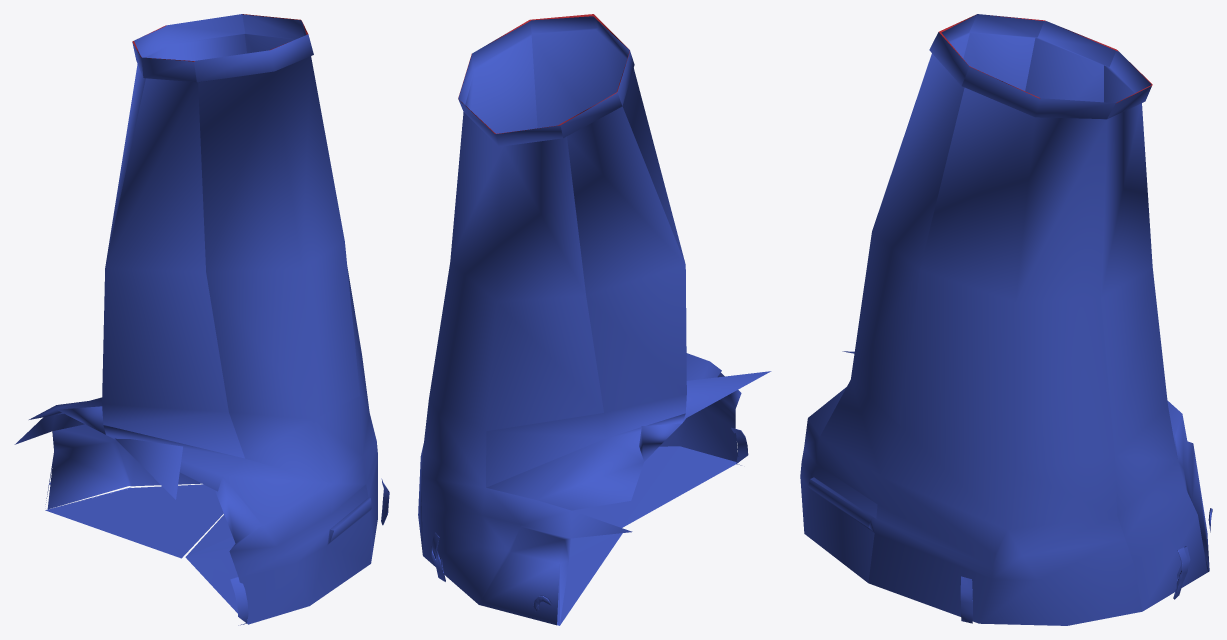
Rendered from right_up_leg.glb.
The picture shows the model from 3 angles, left to right: view 1: azimuth 30°, elevation 25°; view 2: azimuth 150°, elevation 25°; view 3: azimuth 270°, elevation 25°; orthographic projection. The views are drawn at different scales.
Parts seen in each view (by area): view 1: shorts-blue_RIGHT_UP_LEG; view 2: shorts-blue_RIGHT_UP_LEG; view 3: shorts-blue_RIGHT_UP_LEG.
Part boxes in pixels (x1=…): shorts-blue_RIGHT_UP_LEG: x1=14, y1=14, x2=389, y2=625; shorts-blue_RIGHT_UP_LEG: x1=418, y1=14, x2=771, y2=625; shorts-blue_RIGHT_UP_LEG: x1=800, y1=14, x2=1212, y2=625.
Bounding box in the file's own units: 0.2712 × 0.484 × 0.3307.
Materials: 1 (1 with a texture image).
